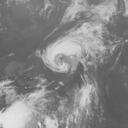cyclone: (39, 37, 88, 74)
